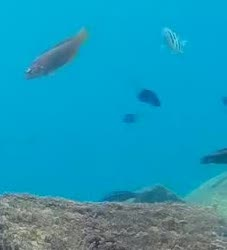smallfish: (22, 16, 90, 84)
